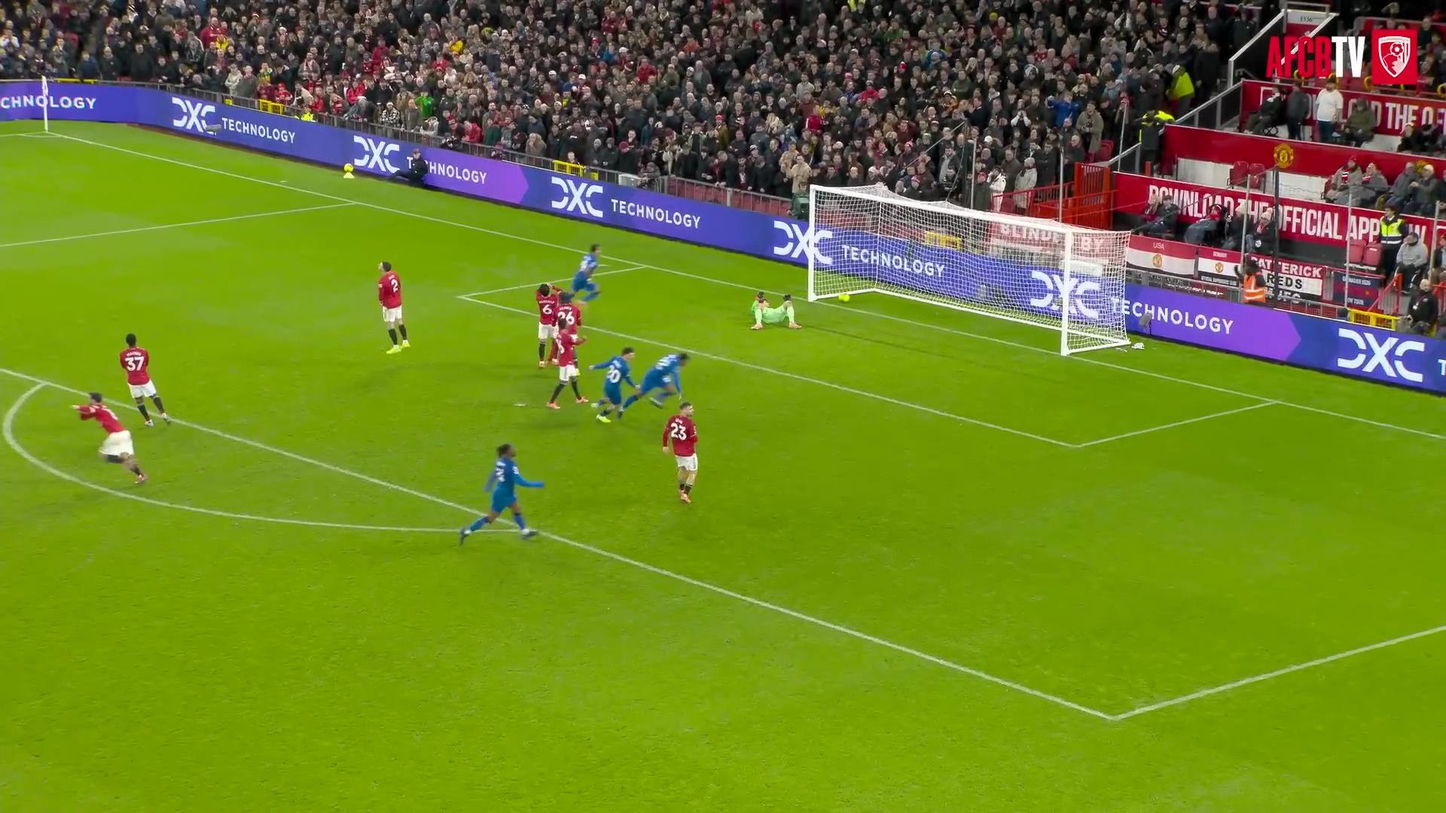football: (837, 294, 850, 302)
player: (459, 443, 543, 544), (72, 393, 146, 483), (119, 333, 170, 426), (618, 353, 688, 417), (589, 347, 638, 422), (546, 324, 587, 408), (663, 401, 697, 502), (378, 261, 409, 354), (536, 283, 560, 367), (752, 292, 800, 329), (572, 244, 599, 302), (557, 291, 581, 330)
